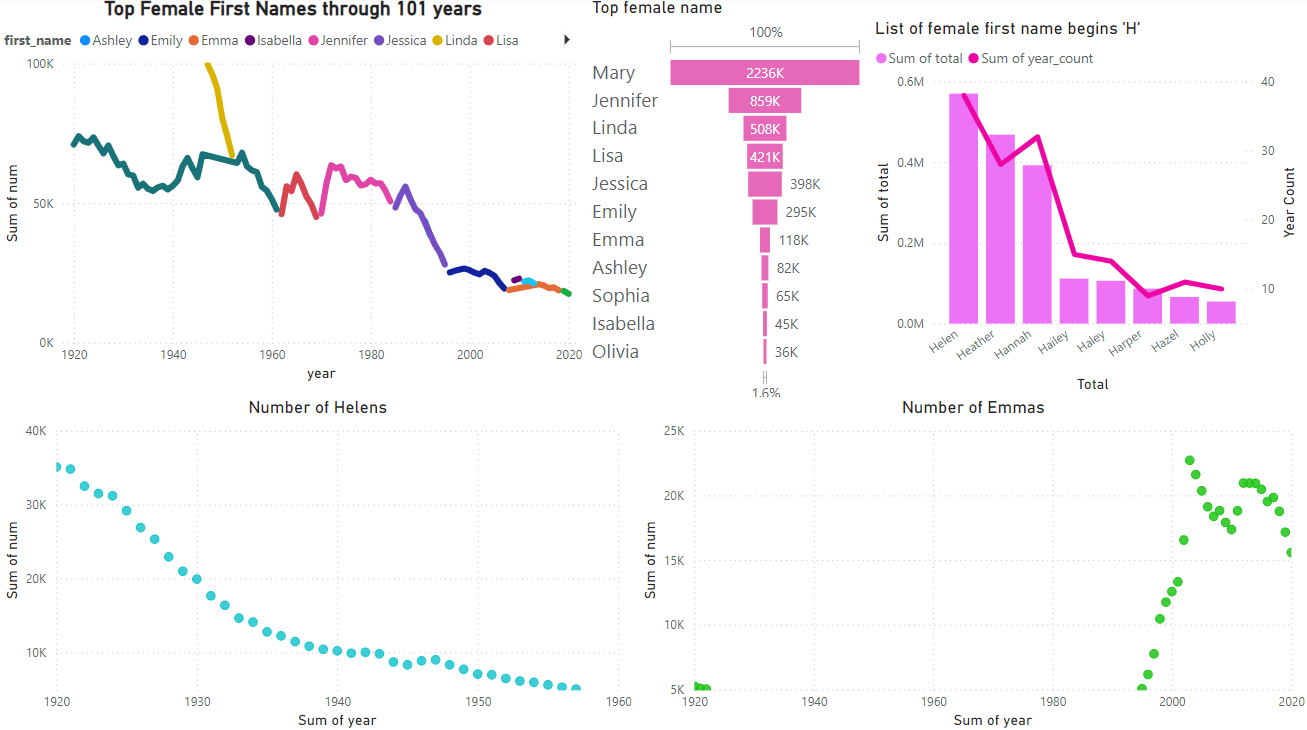

Layout of this report page (visuals, bound fields, positions):
{"tool":"powerbi","page":{"name":"Girl's names","canvas":[1280,720],"ordinal":1},"visuals":[{"type":"actionButton","box":[0,0,100,40],"z":0},{"type":"funnel","title":"Top female name","fields":{"Category":["baby_names count_top_female_name.first_name"],"Y":["Sum(baby_names top_female_name.num)"]},"box":[574.2,0,276,400.9],"z":1000},{"type":"lineChart","title":"Top Female First Names through 101 years","fields":{"Category":["baby_names top_female_name.year"],"Y":["Sum(baby_names top_female_name.num)"],"Series":["baby_names top_female_name.first_name"]},"box":[0,0,574.2,380.8],"z":2000},{"type":"lineStackedColumnComboChart","title":"List of female first name begins ''H''","fields":{"Category":["baby_names h_girl_name.first_name"],"Y":["Sum(baby_names h_girl_name.total)"],"Y2":["Sum(baby_names h_girl_name.year_count)"]},"box":[850.2,20.1,421.1,370.7],"z":3000},{"type":"scatterChart","title":"Number of Helens","fields":{"X":["Sum(baby_names cumulative_helens.year)"],"Category":["baby_names cumulative_helens.cumulative_helens"],"Y":["Sum(baby_names cumulative_helens.num)"]},"box":[0,390.9,622.5,328.4],"z":4000},{"type":"scatterChart","title":"Number of Emmas","fields":{"X":["Sum(baby_names cumulative_emmas.year)"],"Category":["baby_names cumulative_emmas.cumulative_emmas"],"Y":["Sum(baby_names cumulative_emmas.num)"]},"box":[622.5,390.9,656.8,328.4],"z":5000}]}

Visuals, with their boxes in screenshot pixels (x1, y1, x2, y2), scaled from the page's 1280x720 canvas onto the 1307x730 screenshot:
actionButton: (left=0, top=0, right=102, bottom=41)
"Top female name" funnel: (left=586, top=0, right=868, bottom=406)
"Top Female First Names through 101 years" lineChart: (left=0, top=0, right=586, bottom=386)
"List of female first name begins ''H''" lineStackedColumnComboChart: (left=868, top=20, right=1298, bottom=396)
"Number of Helens" scatterChart: (left=0, top=396, right=636, bottom=729)
"Number of Emmas" scatterChart: (left=636, top=396, right=1306, bottom=729)
